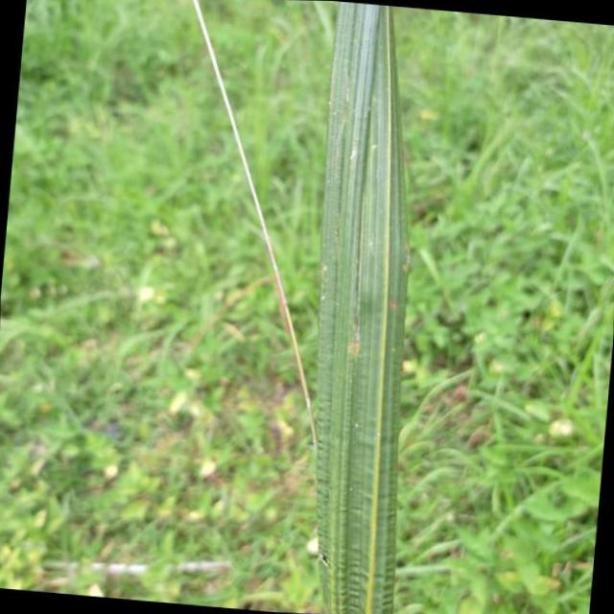Boron: (308, 5, 400, 606)
